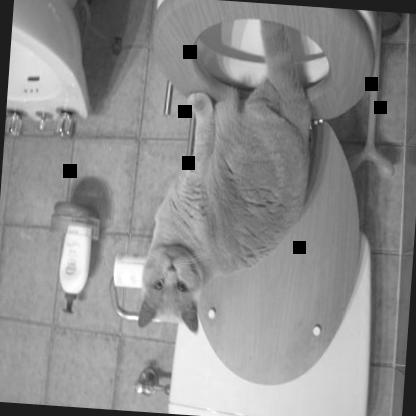cat: (136, 13, 319, 342)
